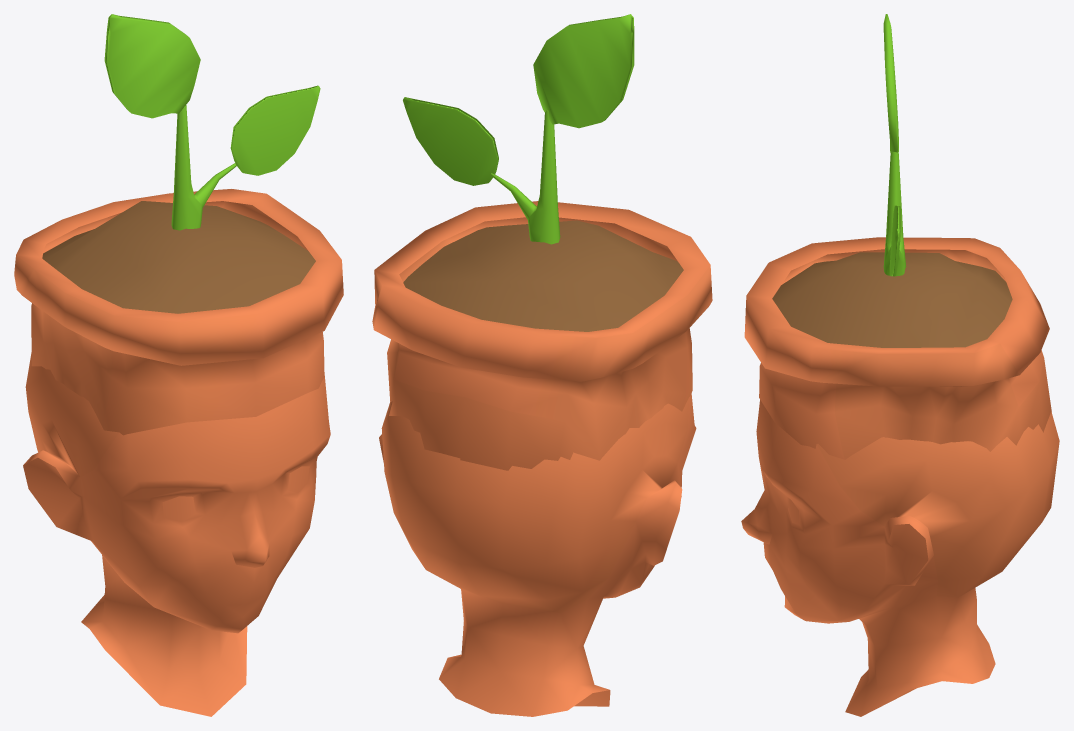
File: poti-tobik.glb
The picture shows the model from 3 angles, left to right: view 1: azimuth 30°, elevation 25°; view 2: azimuth 150°, elevation 25°; view 3: azimuth 270°, elevation 25°; orthographic projection. The views are drawn at different scales.
Visible parts, largest first — view 1: M_Head_BaseMesh, F_Head_BaseMesh; view 2: M_Head_BaseMesh, F_Head_BaseMesh; view 3: M_Head_BaseMesh, F_Head_BaseMesh.
Boxes of the visible parts, x1,y1,x2,y2 form: M_Head_BaseMesh: (14,14,343,435); F_Head_BaseMesh: (23,352,330,716); M_Head_BaseMesh: (372,14,712,470); F_Head_BaseMesh: (379,394,696,716); M_Head_BaseMesh: (744,14,1051,459); F_Head_BaseMesh: (741,400,1059,716).
Size of the model in its own units: 0.6395 by 1.48 by 0.6438.
1 material, 1 textured.
